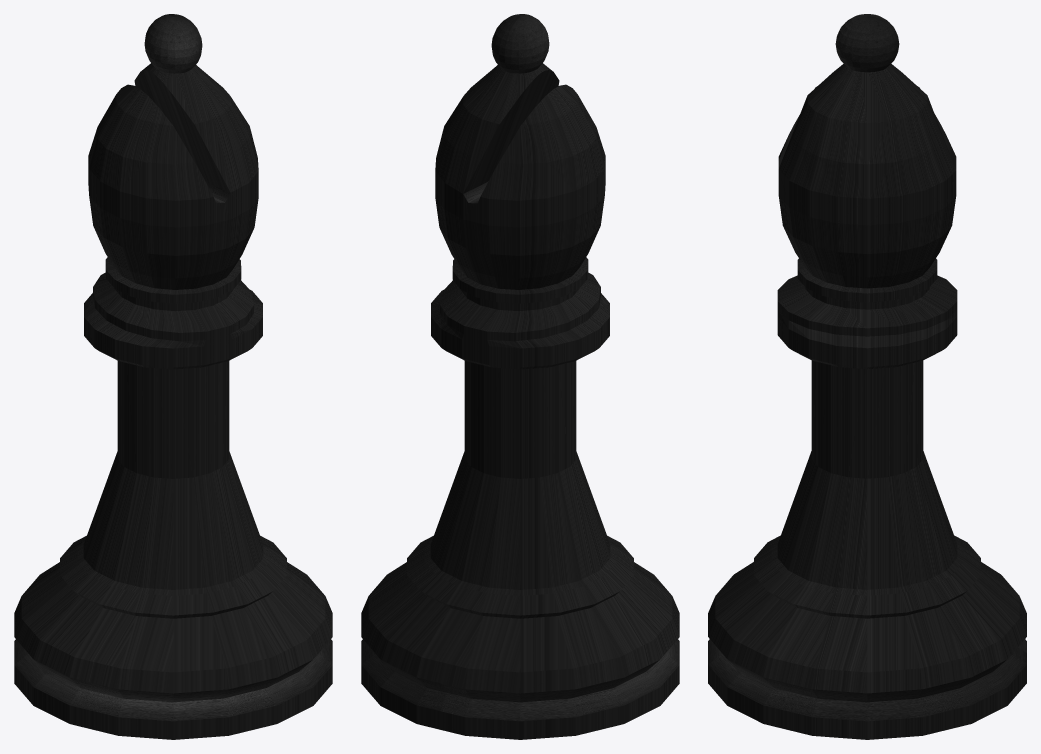
Rendered from b-bishop-stone.gltf.
3 renders of one model, left to right at view 1: azimuth 30°, elevation 25°; view 2: azimuth 150°, elevation 25°; view 3: azimuth 270°, elevation 25°, orthographic.
Visible parts, largest first — view 1: B_Bishop; view 2: B_Bishop; view 3: B_Bishop.
Part boxes in pixels (box(x1,y1,x2,y2)): B_Bishop: box(14, 14, 332, 739); B_Bishop: box(361, 14, 679, 739); B_Bishop: box(708, 14, 1026, 739).
Size of the model in its own units: 49.35 by 112 by 48.6.
1 material, 1 textured.
